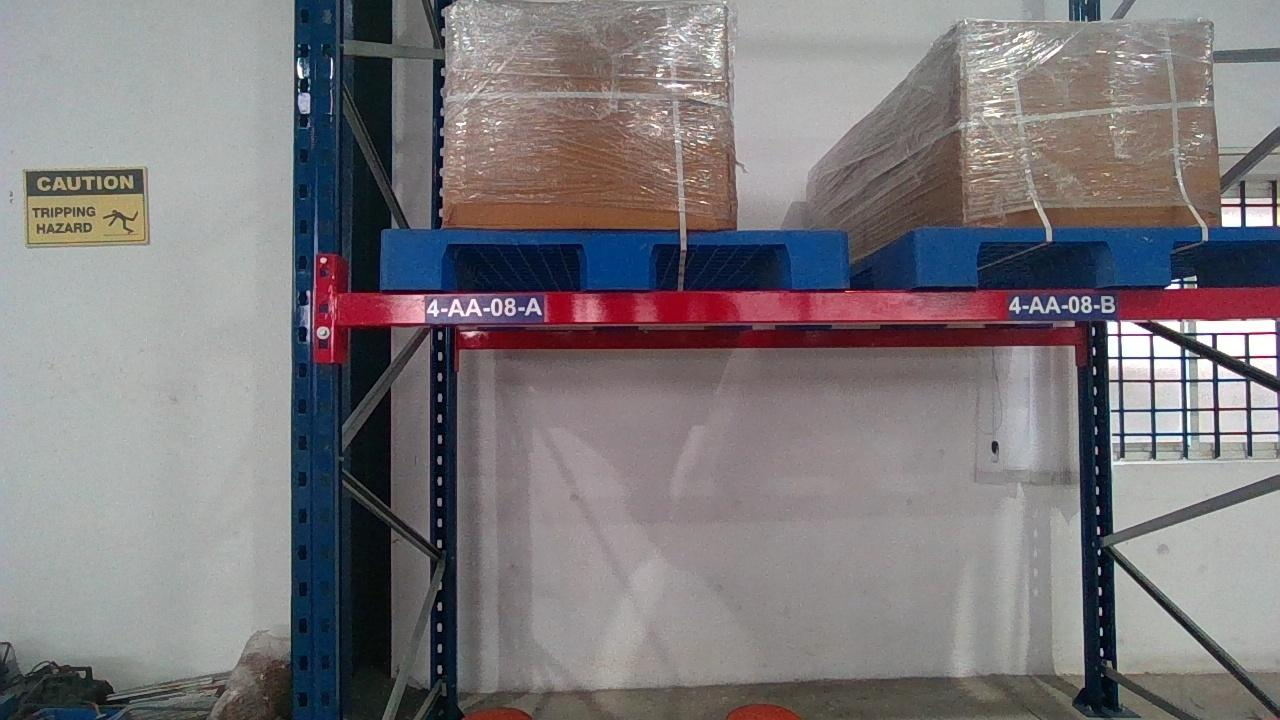h_rack: (330, 288, 1275, 323)
small_pallet: (379, 229, 848, 288), (912, 225, 1279, 283)
